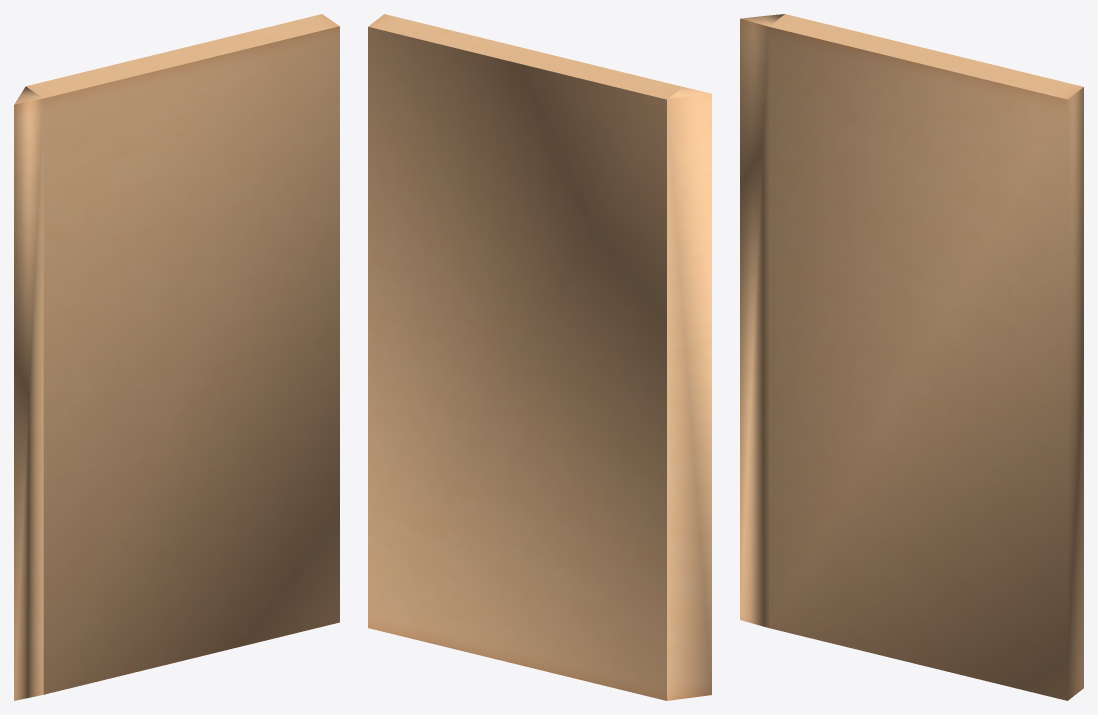
Rendered from Door_Panel_D.fbx.
The picture shows the model from 3 angles, left to right: view 1: azimuth 30°, elevation 25°; view 2: azimuth 150°, elevation 25°; view 3: azimuth 330°, elevation 25°; orthographic projection.
Visible parts, largest first — view 1: Door_Panel_D; view 2: Door_Panel_D; view 3: Door_Panel_D.
Boxes of the visible parts, x1,y1,x2,y2 form: Door_Panel_D: (14, 14, 339, 700); Door_Panel_D: (368, 14, 711, 700); Door_Panel_D: (740, 14, 1083, 700).
Bounding box in the file's own units: 1.11 × 1.94 × 0.1.
